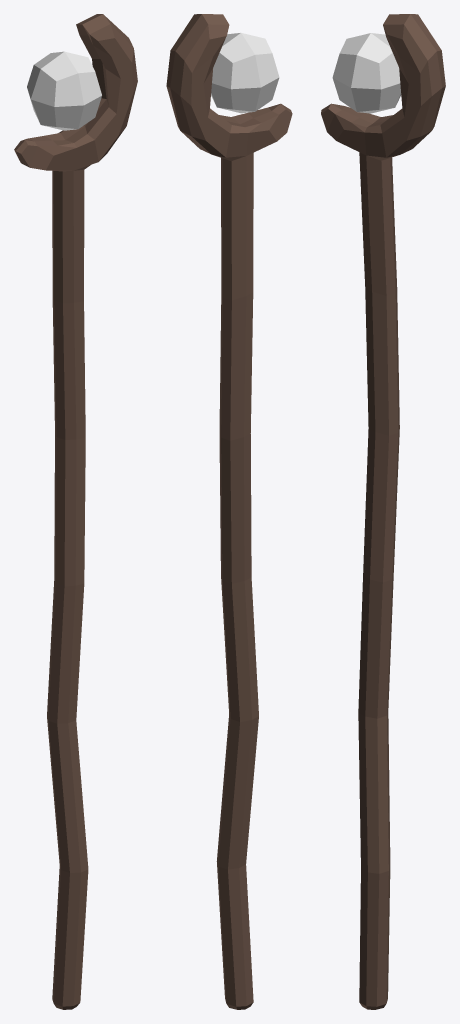
Rendered from wizard-grace.fbx.
3 renders of one model, left to right at view 1: azimuth 30°, elevation 25°; view 2: azimuth 210°, elevation 25°; view 3: azimuth 330°, elevation 25°, orthographic.
Parts seen in each view (by area): view 1: grace, grace-orb; view 2: grace, grace-orb; view 3: grace, grace-orb.
Boxes of the visible parts, x1,y1,x2,y2 form: grace: (14,14,137,1009); grace-orb: (27,51,101,130); grace: (166,14,292,1009); grace-orb: (211,33,279,113); grace: (321,14,445,1009); grace-orb: (332,33,401,113).
Bounding box in the file's own units: 0.1237 × 1.72 × 0.2174.
